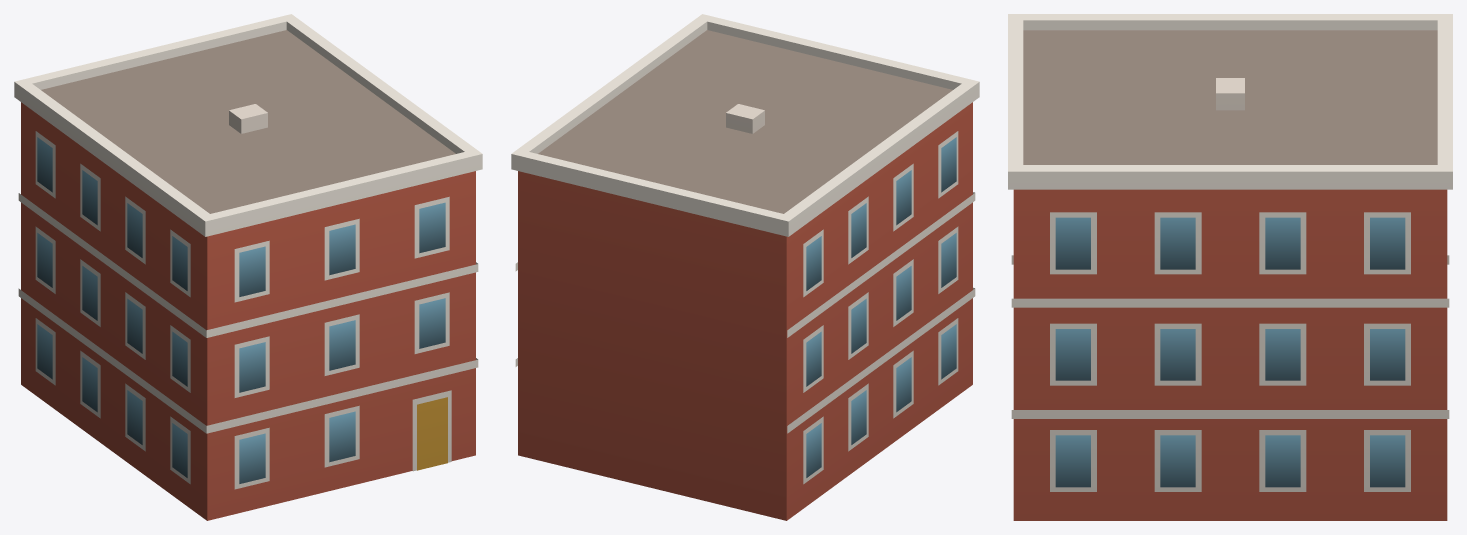
File: vee_leftb2_far.glb
3 renders of one model, left to right at view 1: azimuth 30°, elevation 25°; view 2: azimuth 150°, elevation 25°; view 3: azimuth 270°, elevation 25°, orthographic. The views are drawn at different scales.
Visible parts, largest first — view 1: vee_leftb2_far; view 2: vee_leftb2_far; view 3: vee_leftb2_far.
Boxes of the visible parts, x1,y1,x2,y2 form: vee_leftb2_far: (14,14,482,520); vee_leftb2_far: (511,14,979,520); vee_leftb2_far: (1008,14,1452,520).
Size of the model in its own units: 10.32 by 10.97 by 12.32.
1 material, 1 textured.
